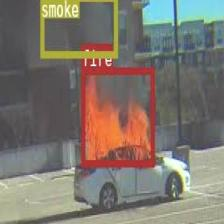fire: (81, 66, 153, 165)
smoke: (40, 0, 117, 57)
